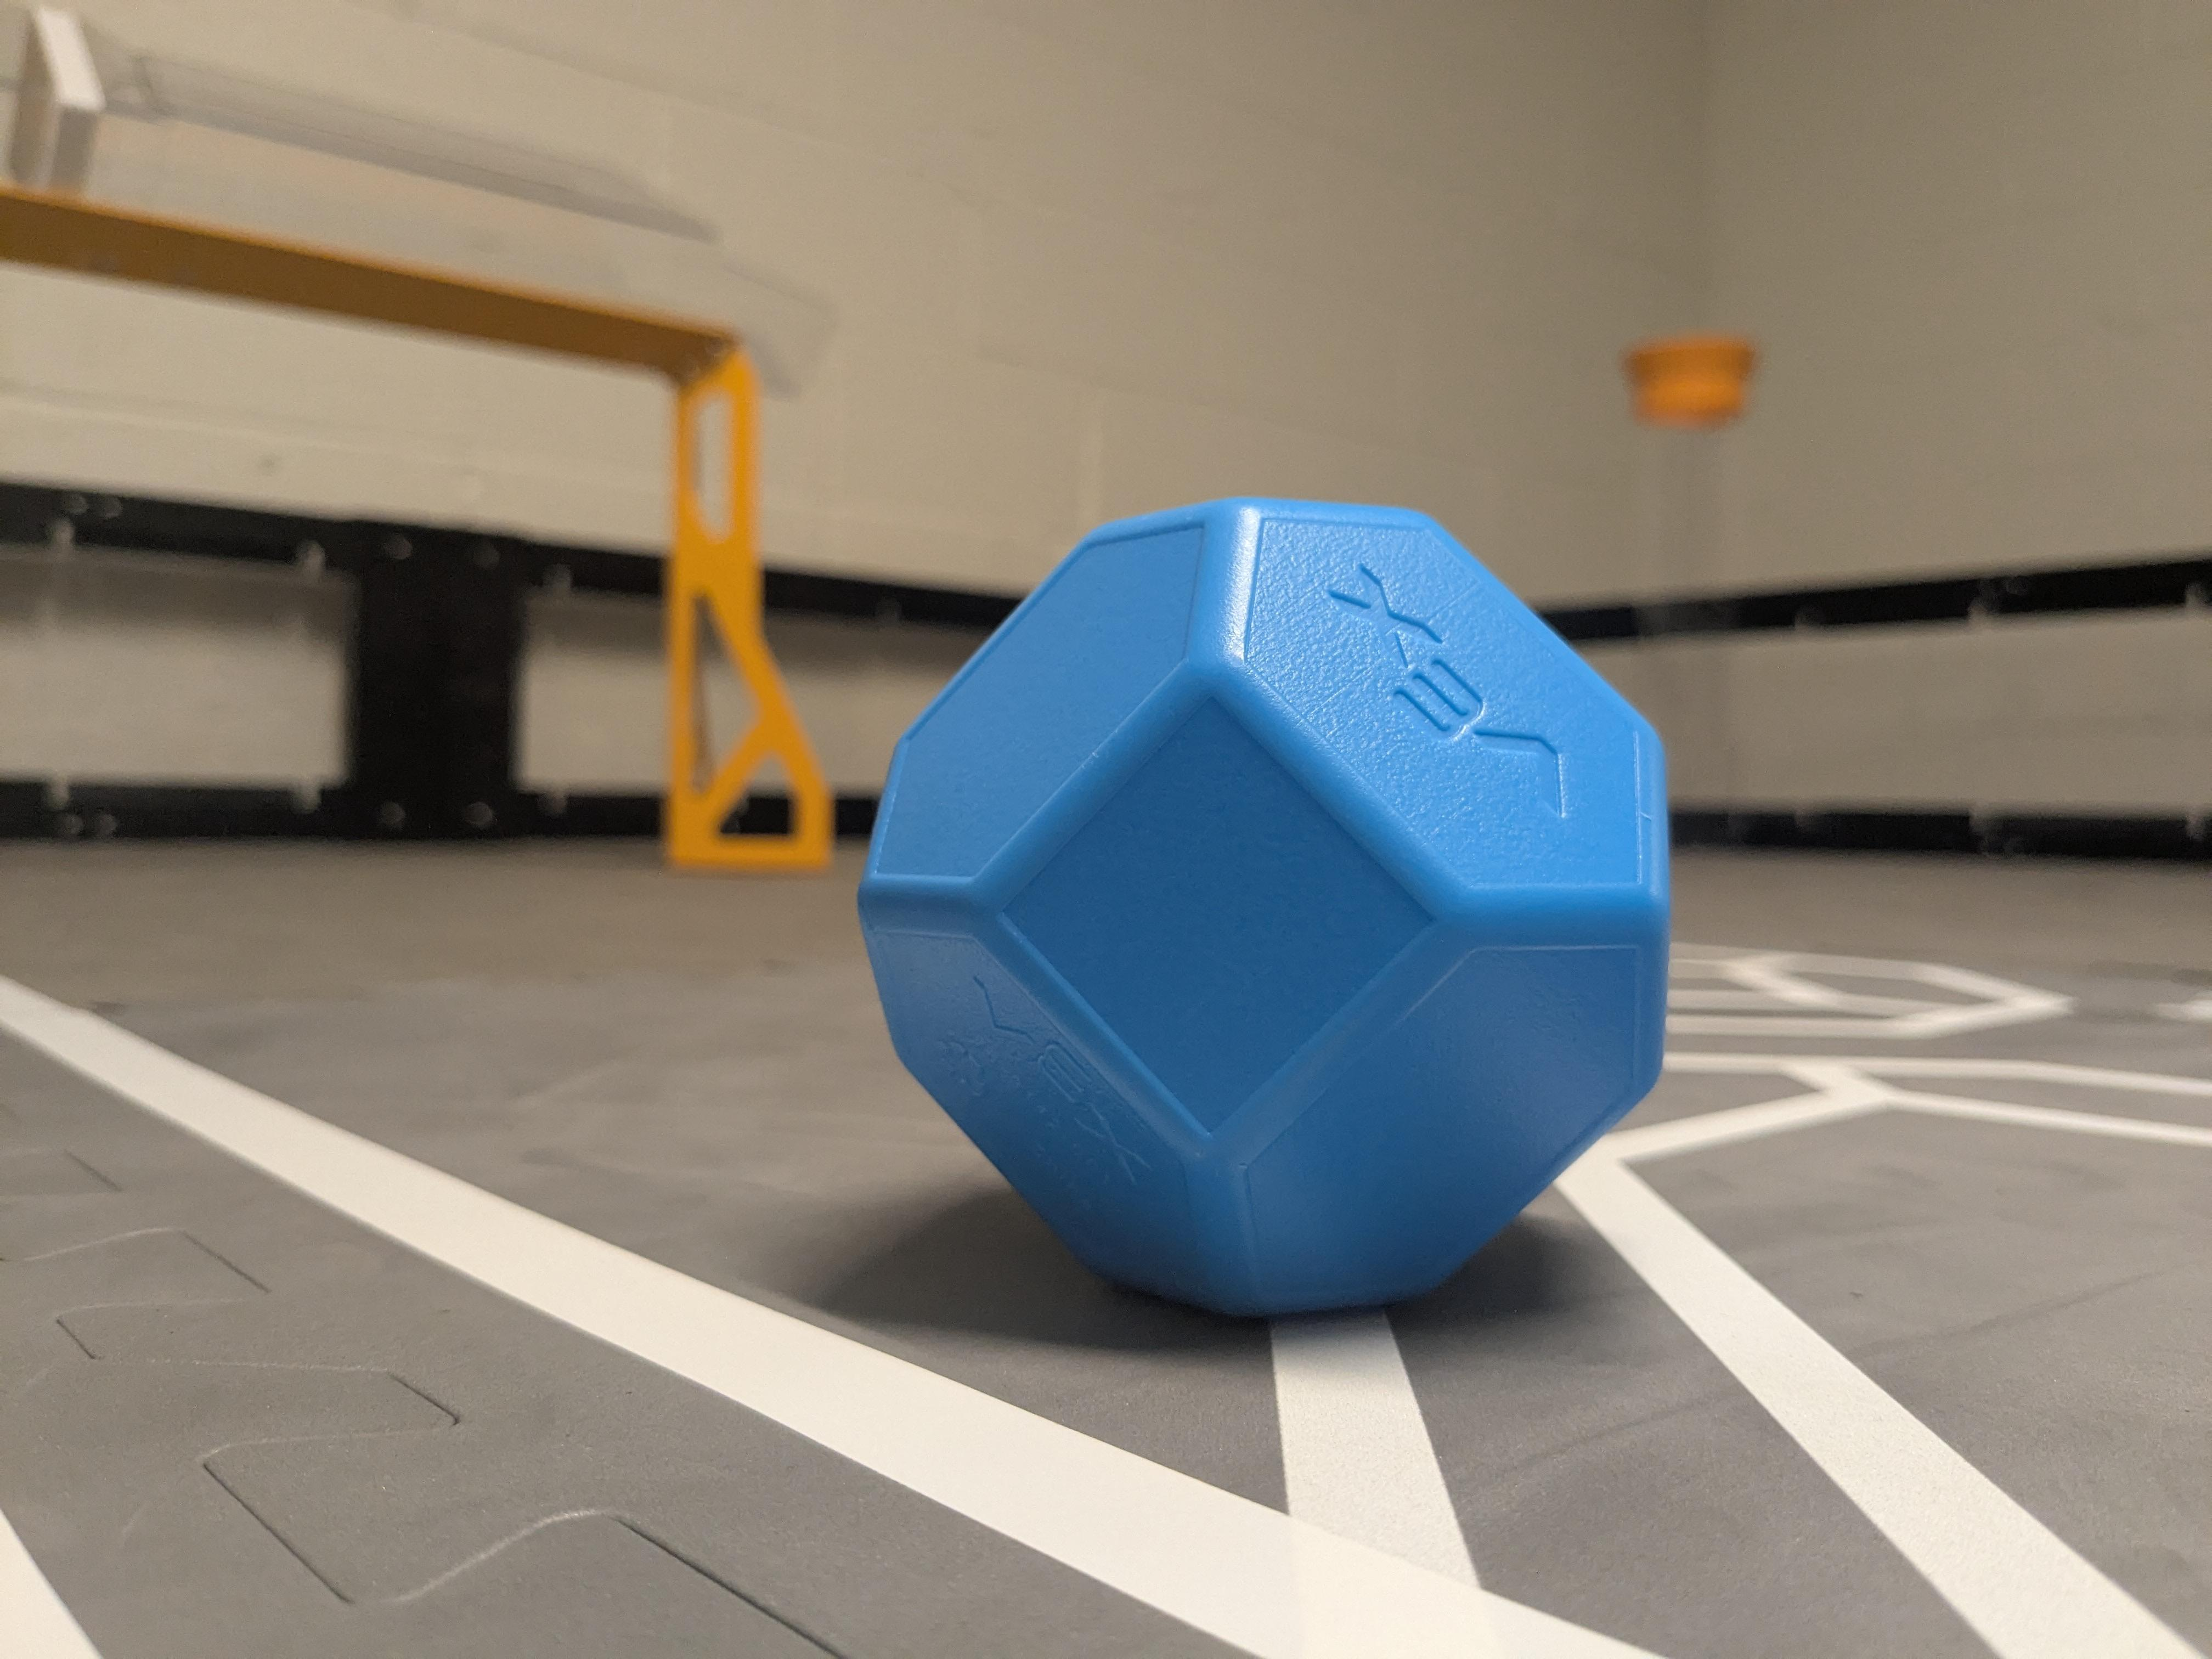Vex-Pieces-BLUE: (860, 500, 1669, 1314)
